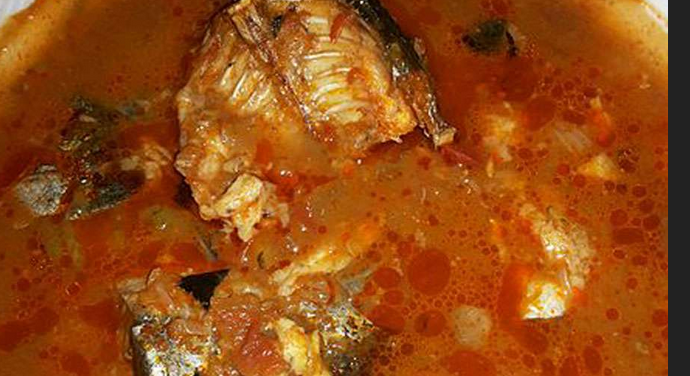poisson: (166, 13, 381, 362)
soupe: (533, 7, 667, 146)
